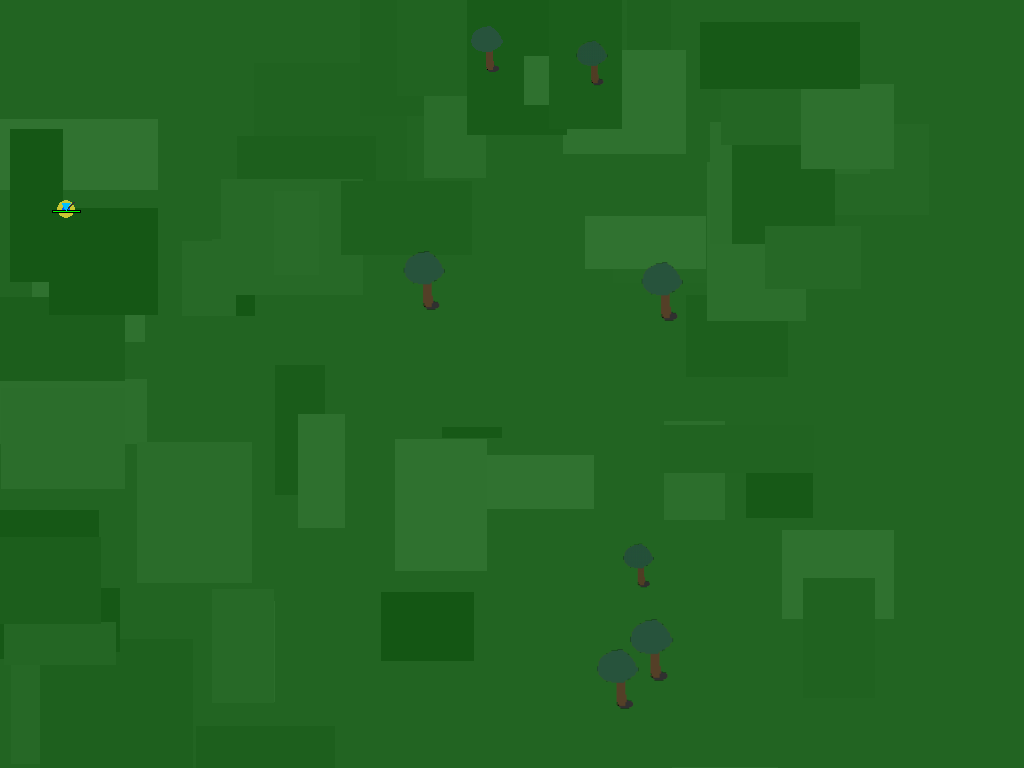CombatEngineer: (48, 191, 83, 226)
